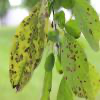Apple Scab Leaf: (7, 1, 49, 93), (60, 32, 94, 99), (69, 1, 100, 55)
